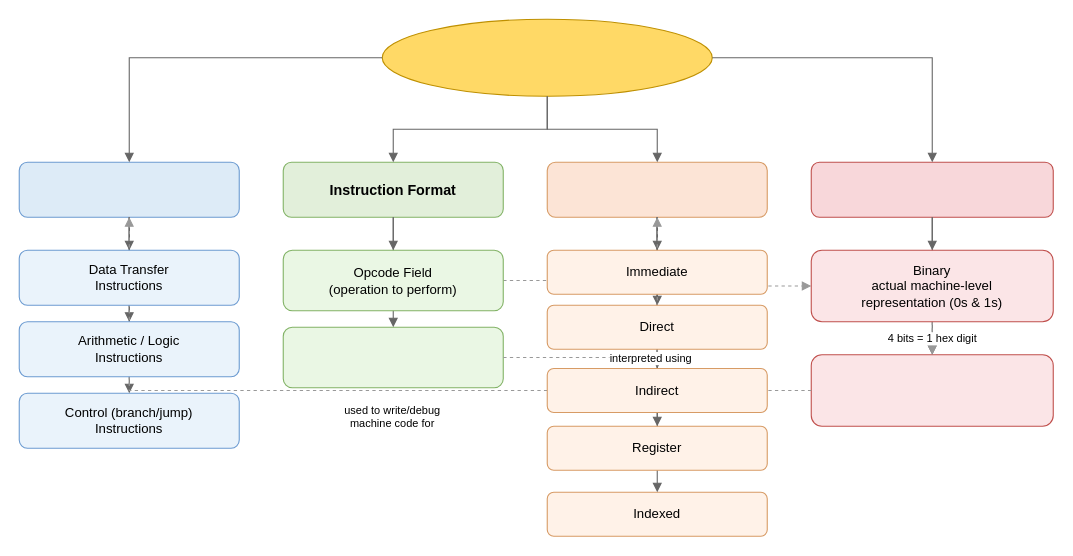
Image size: 1073x556. Some labels were removed from this diagram. The shapes that lost their labels are listed below. From the top down, each one's box as (x1, y1, x2, y2) in pixels, then its label:
(381, 18, 712, 96): INSTRUCTION REPRESENTATION USING NUMBER SYSTEMS
(18, 161, 239, 217): Instruction Set
(546, 161, 767, 217): Addressing Modes
(810, 161, 1053, 217): Number Systems
(282, 326, 503, 388): Operand Field(s) (data / address)
(810, 354, 1053, 426): Hexadecimal compact, human-readable shorthand for binary
